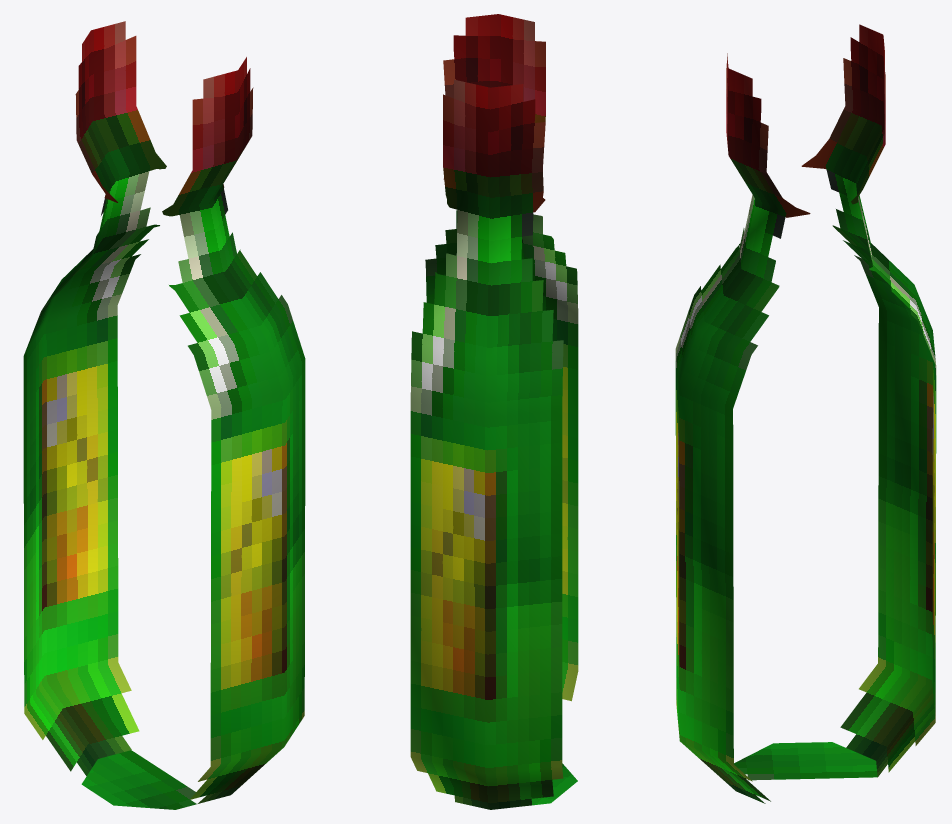
File: DoubleGreedyAxe.fbx
3 views of the same model, side by side, from view 1: azimuth 30°, elevation 25°; view 2: azimuth 150°, elevation 25°; view 3: azimuth 270°, elevation 25° (orthographic).
Visible parts, largest first — view 1: Item_DoubleGreedyAxe; view 2: Item_DoubleGreedyAxe; view 3: Item_DoubleGreedyAxe.
Part boxes in pixels (x1,y1,x2,y2): Item_DoubleGreedyAxe: (23,21,305,809); Item_DoubleGreedyAxe: (410,14,578,809); Item_DoubleGreedyAxe: (675,24,936,803).
Bounding box in the file's own units: 0.1942 × 0.5336 × 0.1757.
1 material, 1 textured.
